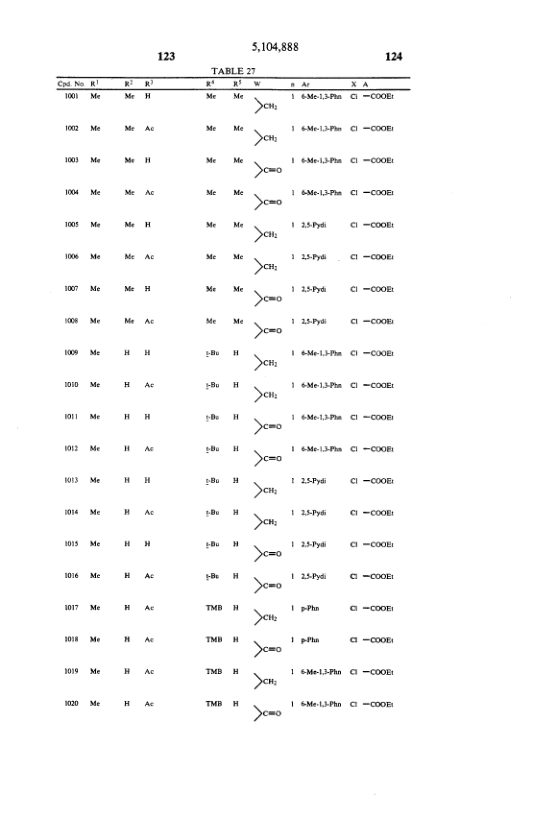compound-structure: (246, 223, 286, 251), (250, 284, 285, 311), (252, 158, 286, 185), (247, 93, 282, 118), (251, 319, 284, 345), (249, 574, 283, 598), (250, 605, 284, 629), (252, 192, 288, 213), (248, 446, 284, 467), (252, 700, 283, 724), (248, 478, 280, 501), (252, 125, 278, 152), (248, 416, 283, 436), (251, 350, 282, 372), (250, 542, 281, 564), (251, 641, 286, 660), (250, 671, 281, 692), (251, 384, 280, 404), (252, 257, 278, 277), (251, 513, 276, 531)
